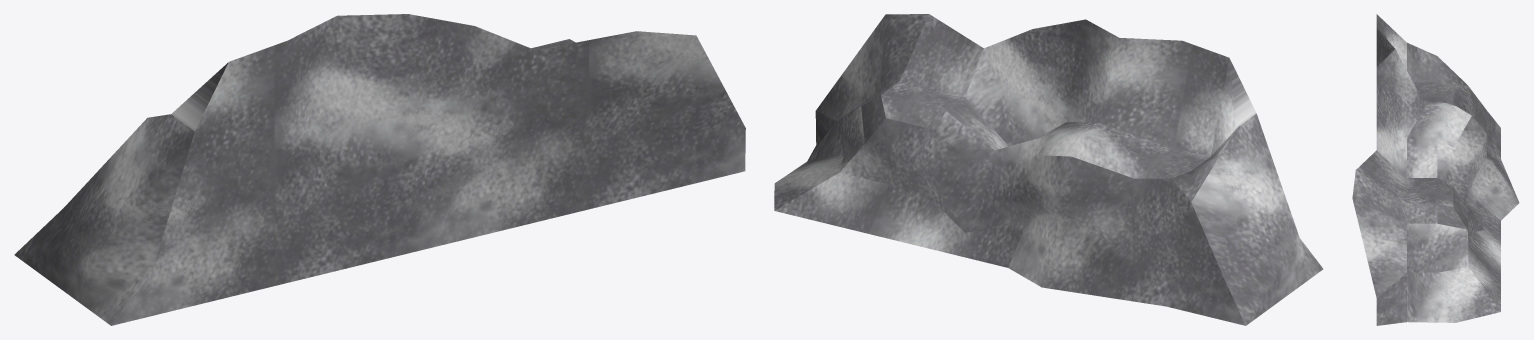
Rendered from MountainT1.FBX.
3 views of the same model, side by side, from view 1: azimuth 30°, elevation 25°; view 2: azimuth 150°, elevation 25°; view 3: azimuth 270°, elevation 25° (orthographic). The views are drawn at different scales.
Visible parts, largest first — view 1: MountainT1; view 2: MountainT1; view 3: MountainT1.
Part boxes in pixels (x1=…): MountainT1: x1=14, y1=14, x2=745, y2=325; MountainT1: x1=774, y1=14, x2=1323, y2=325; MountainT1: x1=1352, y1=14, x2=1519, y2=325.
Bounding box in the file's own units: 206 × 75.18 × 73.42.
1 material, 1 textured.
